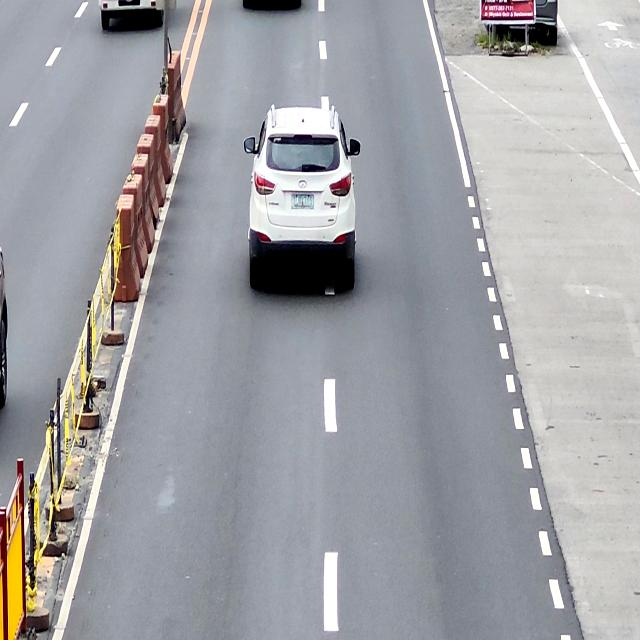Car: (245, 106, 361, 296)
License-Plate: (291, 194, 315, 210)
